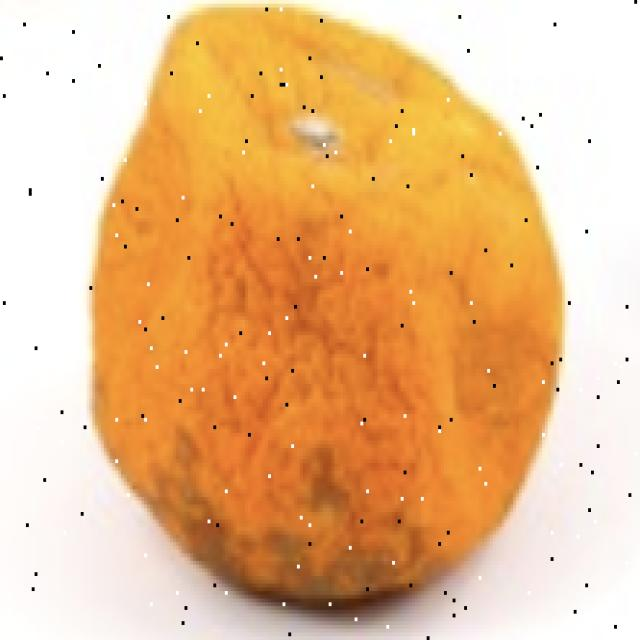Organik: (73, 0, 576, 620)
